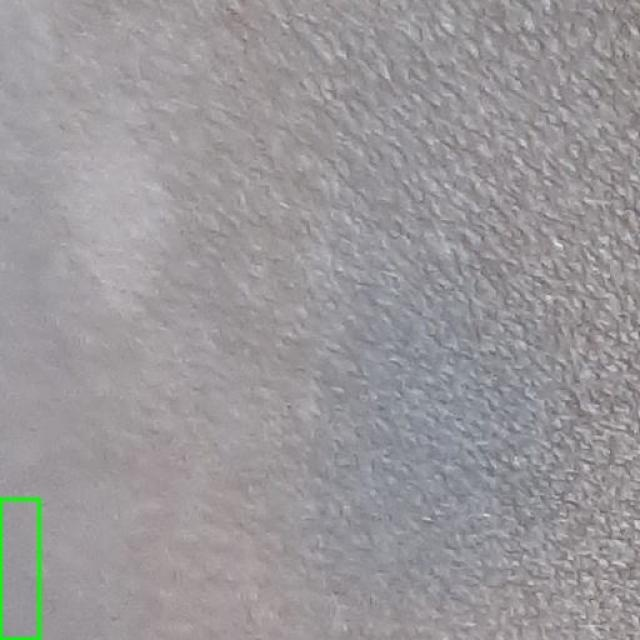Atopic Dermatitis: (0, 499, 39, 639)
